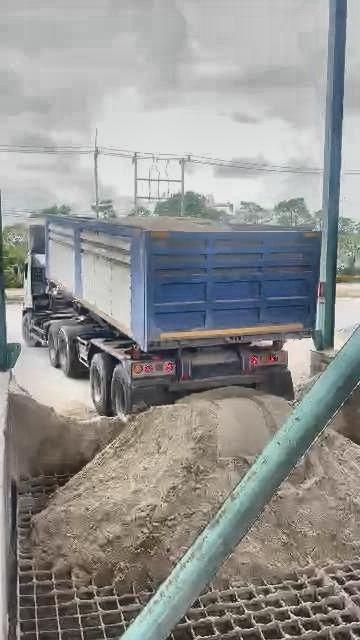sand: (34, 389, 290, 584), (222, 430, 360, 576), (7, 386, 126, 478), (109, 216, 226, 231), (332, 384, 360, 444)
